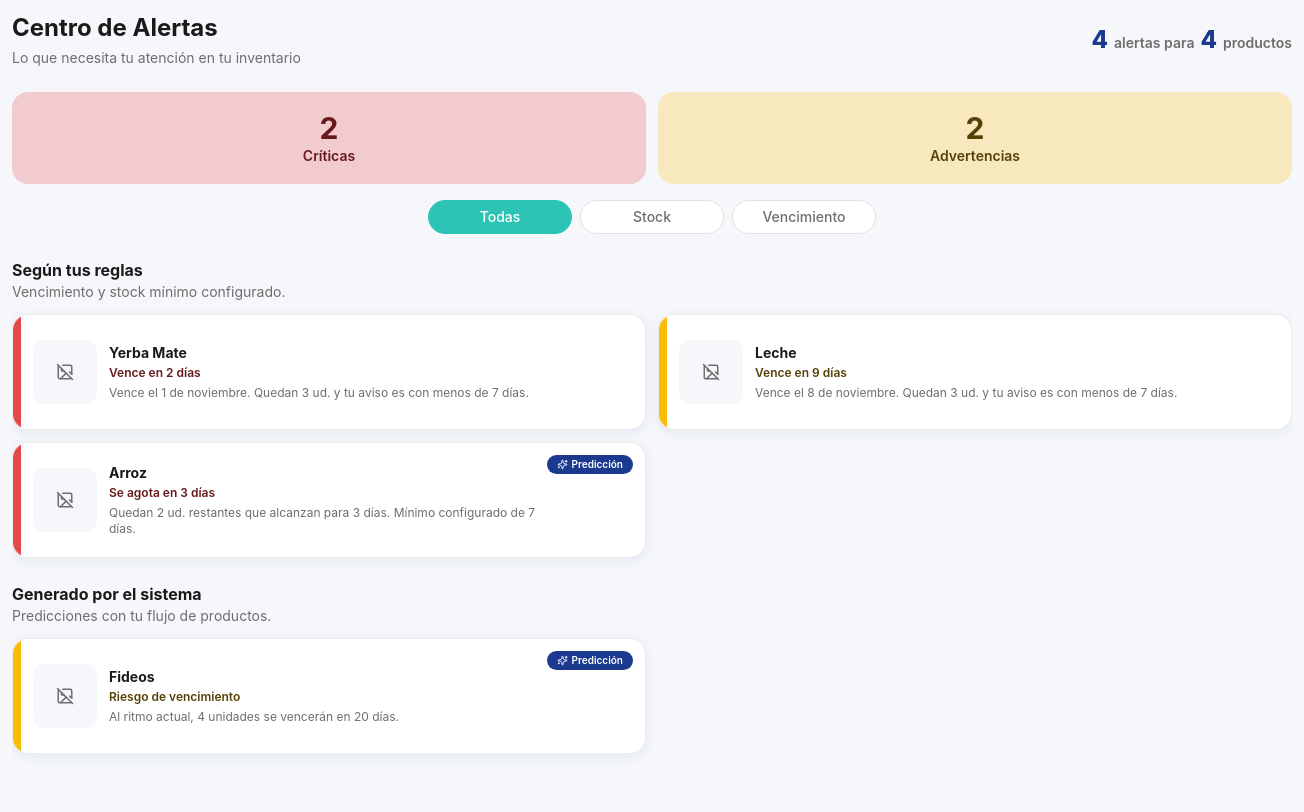
Test case: Alertas (Centro de Alertas) › tocar «Críticas» las filtra, con el contorno rojo; «Advertencias», con el amarillo
Expected: the button with test id "alert-item-expiry-1" is shown, [12,314,646,430]
Step 1. Click the button with test id "alert-summary-critical" → (329, 138), box [12,92,646,184]
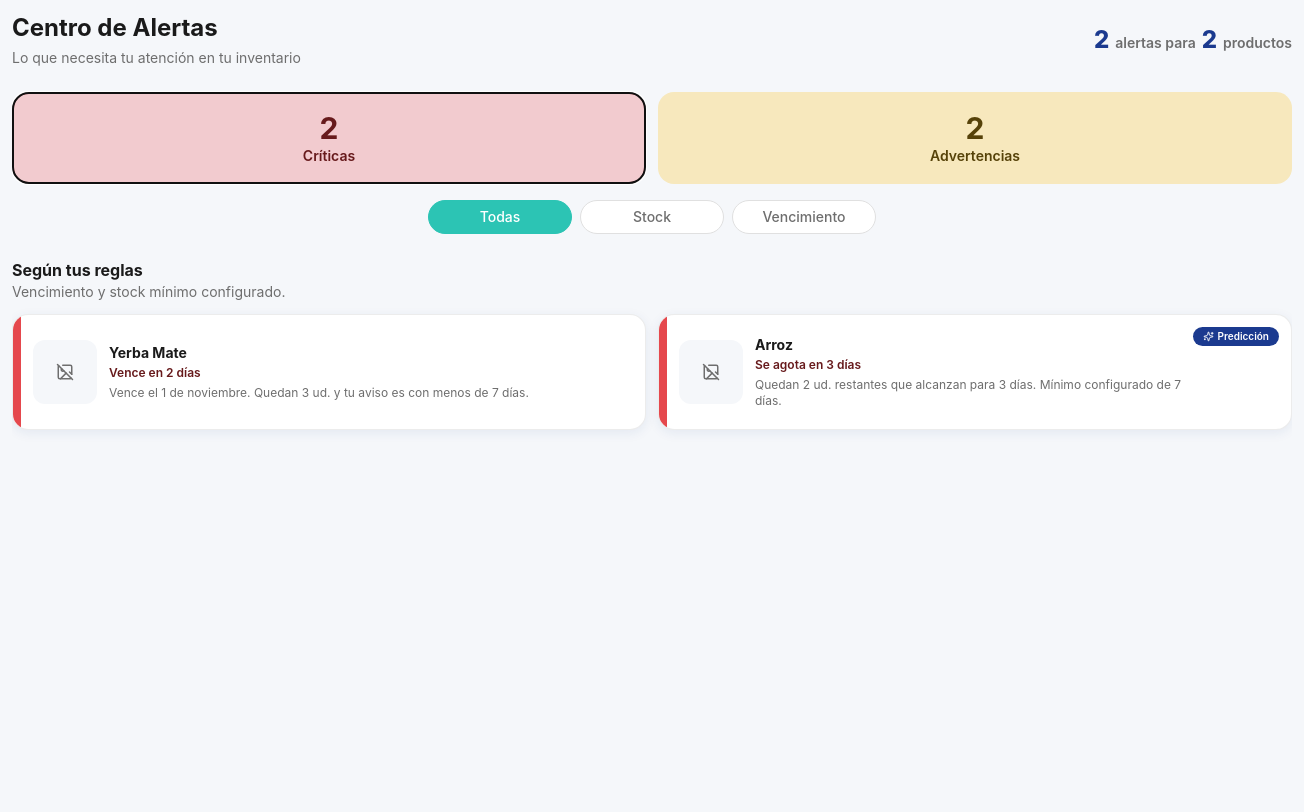
Step 2. Click the button with test id "alert-summary-warning" → (975, 138), box [658,92,1292,184]
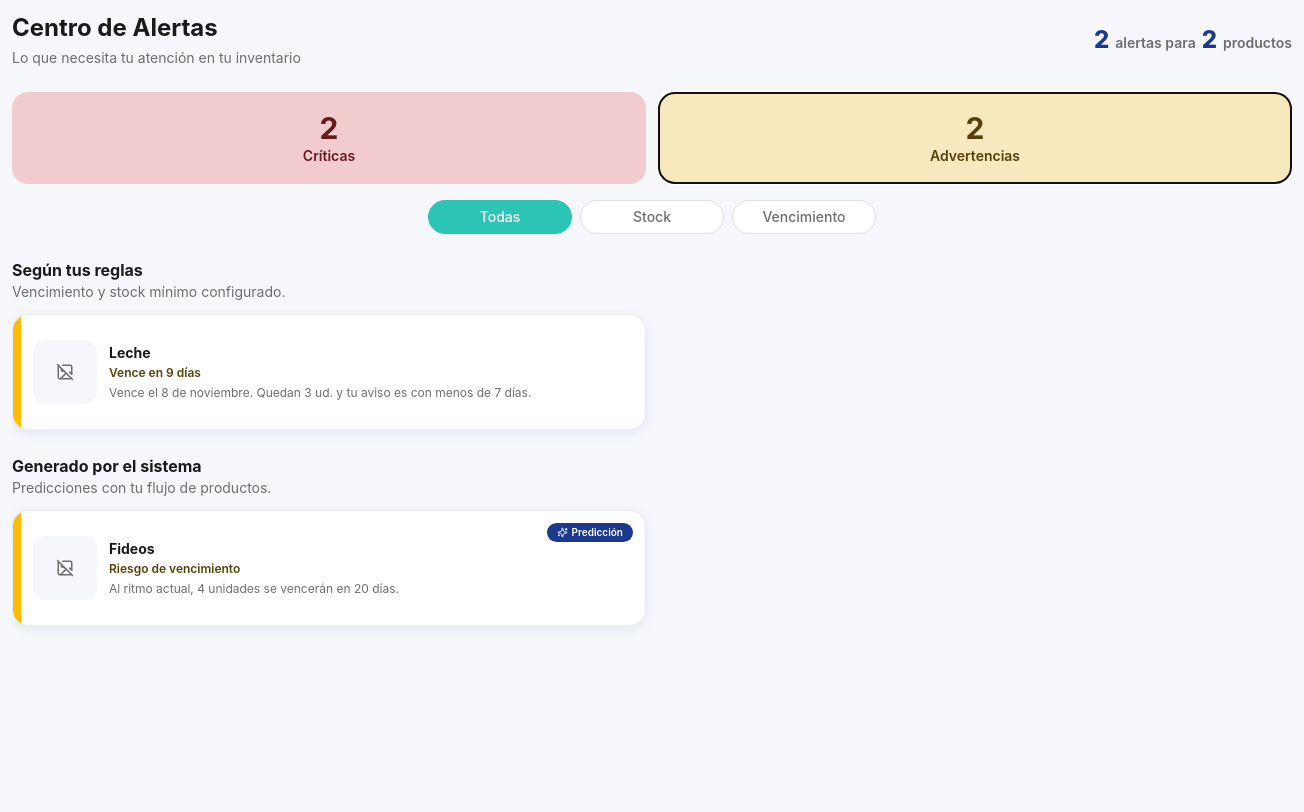
Expected: the button with test id "alert-item-expiry-2" is shown, [12,314,646,430]
